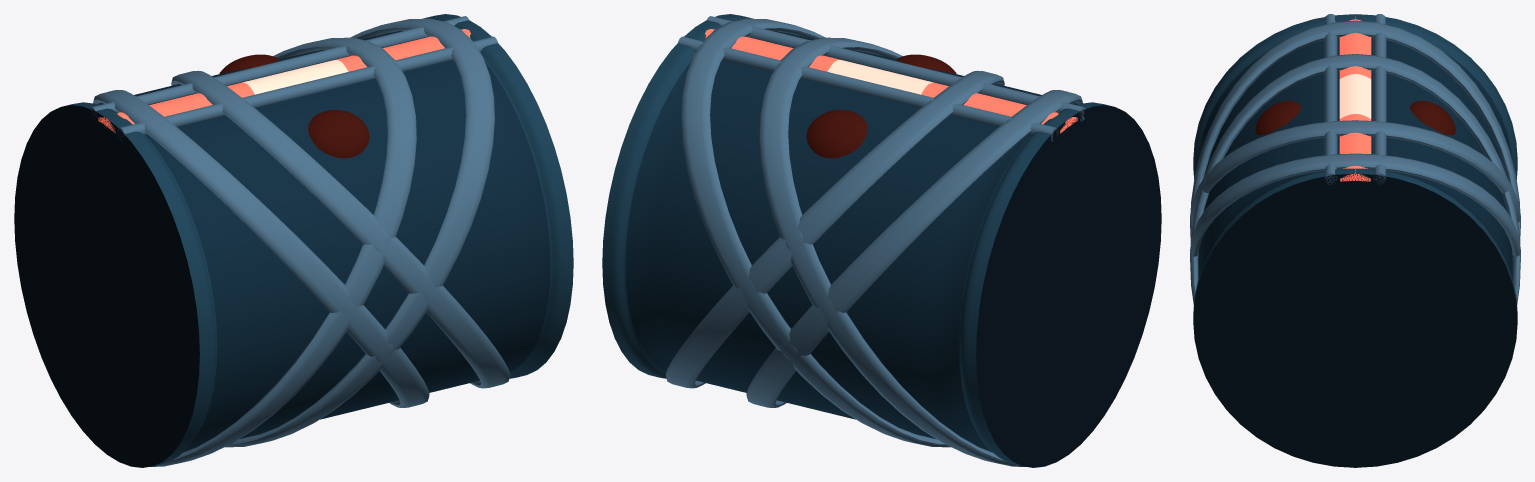
File: maze_pipe_cage_117.glb
The picture shows the model from 3 angles, left to right: view 1: azimuth 30°, elevation 25°; view 2: azimuth 150°, elevation 25°; view 3: azimuth 270°, elevation 25°; orthographic projection. The views are drawn at different scales.
Parts seen in each view (by area): view 1: pipe, hoop3, hoop1, hoop2, hoop0, band, rail-1, rail1, core-1, core1; view 2: pipe, hoop3, hoop1, hoop2, hoop0, band, rail1, rail-1, core1, core-1; view 3: pipe, hoop0, hoop2, hoop3, hoop1, band, rail-1, rail1, core-1, core1.
Part boxes in pixels (box(x1,y1,x2,y2)): pipe: box(14, 14, 573, 467); hoop3: box(225, 18, 494, 447); hoop1: box(150, 37, 416, 466); hoop2: box(93, 90, 429, 407); hoop0: box(171, 70, 510, 388); band: box(98, 29, 470, 133); rail-1: box(117, 36, 497, 140); rail1: box(90, 16, 468, 119); core-1: box(308, 110, 369, 158); core1: box(219, 54, 279, 73); pipe: box(602, 14, 1161, 467); hoop3: box(681, 18, 950, 447); hoop1: box(759, 37, 1025, 466); hoop2: box(746, 90, 1082, 407); hoop0: box(665, 70, 1004, 388); band: box(705, 29, 1077, 133); rail1: box(678, 36, 1058, 141); rail-1: box(707, 16, 1085, 121); core1: box(806, 110, 867, 158); core-1: box(896, 54, 956, 73); pipe: box(1193, 14, 1517, 467); hoop0: box(1190, 54, 1520, 467); hoop2: box(1190, 20, 1520, 242); hoop3: box(1190, 153, 1520, 261); hoop1: box(1190, 120, 1520, 225); band: box(1339, 14, 1371, 181); rail-1: box(1324, 14, 1337, 184); rail1: box(1373, 14, 1386, 184); core-1: box(1255, 101, 1300, 135); core1: box(1410, 101, 1455, 135).
Size of the model in its own units: 24 by 21.02 by 21.02.
